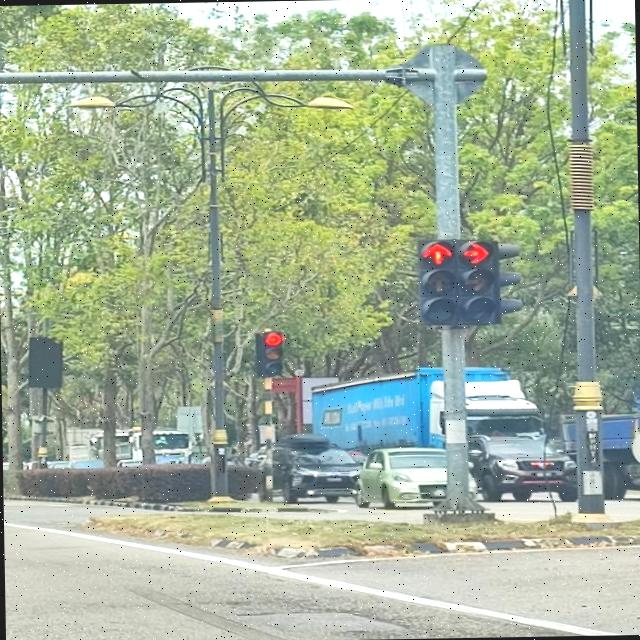red_light: (419, 237, 461, 326), (462, 239, 501, 325), (260, 330, 286, 375)
